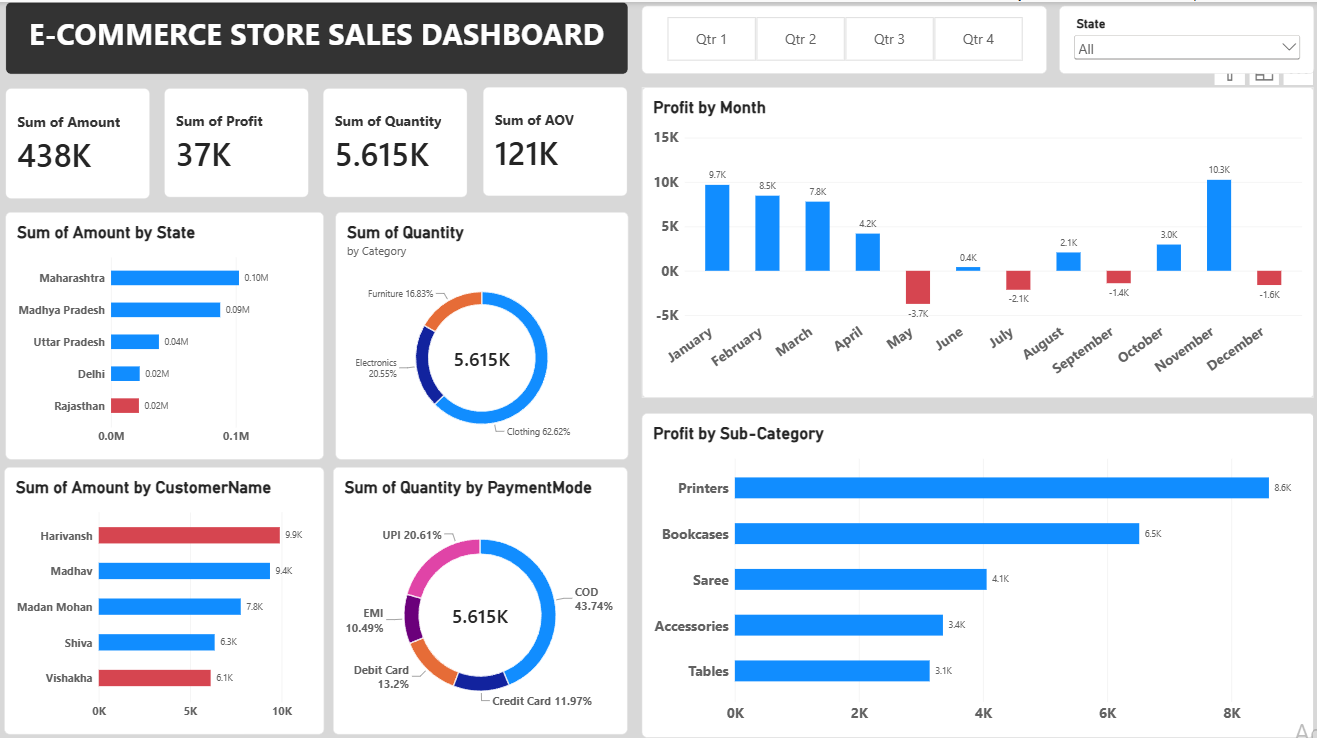

What the dashboard file says about the page in this screenshot:
{"tool":"powerbi","page":{"name":"Page 1","canvas":[1920,1080],"ordinal":0},"visuals":[{"type":"columnChart","title":"Profit by Month","fields":{"Category":["Orders.Order Date.Variation.Date Hierarchy.Month"],"Y":["Sum(Details.Profit)"]},"box":[932.4,123.5,973.6,450.8],"z":0},{"type":"barChart","title":"Profit by Sub-Category","fields":{"Category":["Details.Sub-Category"],"Y":["Sum(Details.Profit)"]},"box":[932.4,594.9,973.6,469.3],"z":1000},{"type":"donutChart","fields":{"Category":["Details.Category"],"Y":["Sum(Details.Quantity)"]},"box":[487.8,304.6,424,358.1],"z":2000},{"type":"donutChart","fields":{"Series":["Details.PaymentMode"],"Y":["Sum(Details.Quantity)"]},"box":[485.8,673.1,426.1,387],"z":3000},{"type":"cardVisual","fields":{"Data":["Sum(Details.Amount)"]},"box":[10.3,125.6,209.9,160.5],"z":4000},{"type":"cardVisual","fields":{"Data":["Sum(Details.Profit)"]},"box":[240.8,125.6,209.9,158.5],"z":5000},{"type":"cardVisual","fields":{"Data":["Sum(Details.Quantity)"]},"box":[471.4,125.6,209.9,158.5],"z":6000},{"type":"cardVisual","fields":{"Data":["Sum(Details.AOV)"]},"box":[701.9,123.5,209.9,158.5],"z":7000},{"type":"barChart","fields":{"Category":["Orders.State"],"Y":["Sum(Details.Amount)"]},"box":[10.3,304.6,461.1,358.1],"z":8000},{"type":"barChart","fields":{"Category":["Orders.CustomerName"],"Y":["Sum(Details.Amount)"]},"box":[8.2,673.1,463.1,387],"z":9000},{"type":"textbox","box":[10.3,0,901.5,105],"z":9001},{"type":"slicer","fields":{"Values":["Orders.Order Date.Variation.Date Hierarchy.Quarter"]},"box":[932.4,6.2,586.6,98.8],"z":9002},{"type":"slicer","fields":{"Values":["Orders.State"]},"box":[1535.5,6.2,370.5,98.8],"z":9003}]}

Visuals, with their boxes in screenshot pixels (x1, y1, x2, y2), scaled from the page's 1920x1080 canvas onto the 1317x738 screenshot:
"Profit by Month" columnChart: [left=640, top=84, right=1307, bottom=392]
"Profit by Sub-Category" barChart: [left=640, top=407, right=1307, bottom=727]
donutChart - Details.Category x Sum(Details.Quantity): [left=335, top=208, right=625, bottom=453]
donutChart - Details.PaymentMode x Sum(Details.Quantity): [left=333, top=460, right=626, bottom=724]
cardVisual - Sum(Details.Amount): [left=7, top=86, right=151, bottom=196]
cardVisual - Sum(Details.Profit): [left=165, top=86, right=309, bottom=194]
cardVisual - Sum(Details.Quantity): [left=323, top=86, right=467, bottom=194]
cardVisual - Sum(Details.AOV): [left=481, top=84, right=625, bottom=193]
barChart - Orders.State x Sum(Details.Amount): [left=7, top=208, right=323, bottom=453]
barChart - Orders.CustomerName x Sum(Details.Amount): [left=6, top=460, right=323, bottom=724]
textbox: [left=7, top=0, right=625, bottom=72]
slicer - Orders.Order Date.Variation.Date Hierarchy.Quarter: [left=640, top=4, right=1042, bottom=72]
slicer - Orders.State: [left=1053, top=4, right=1307, bottom=72]
